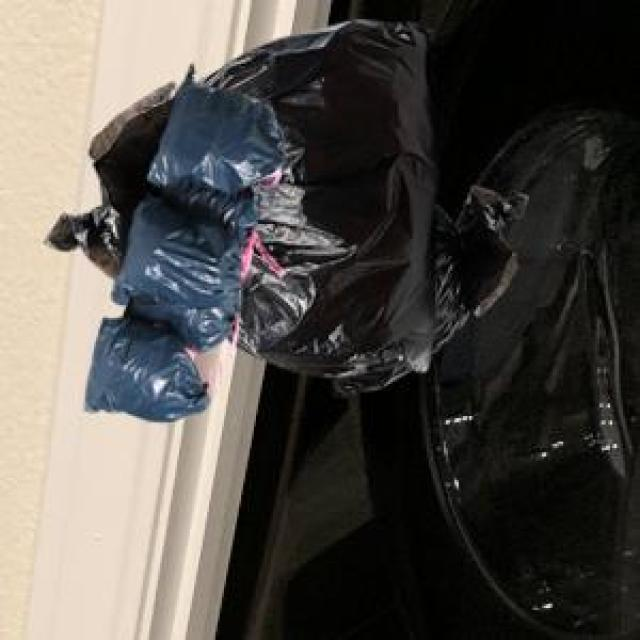waste: (49, 21, 524, 421)
